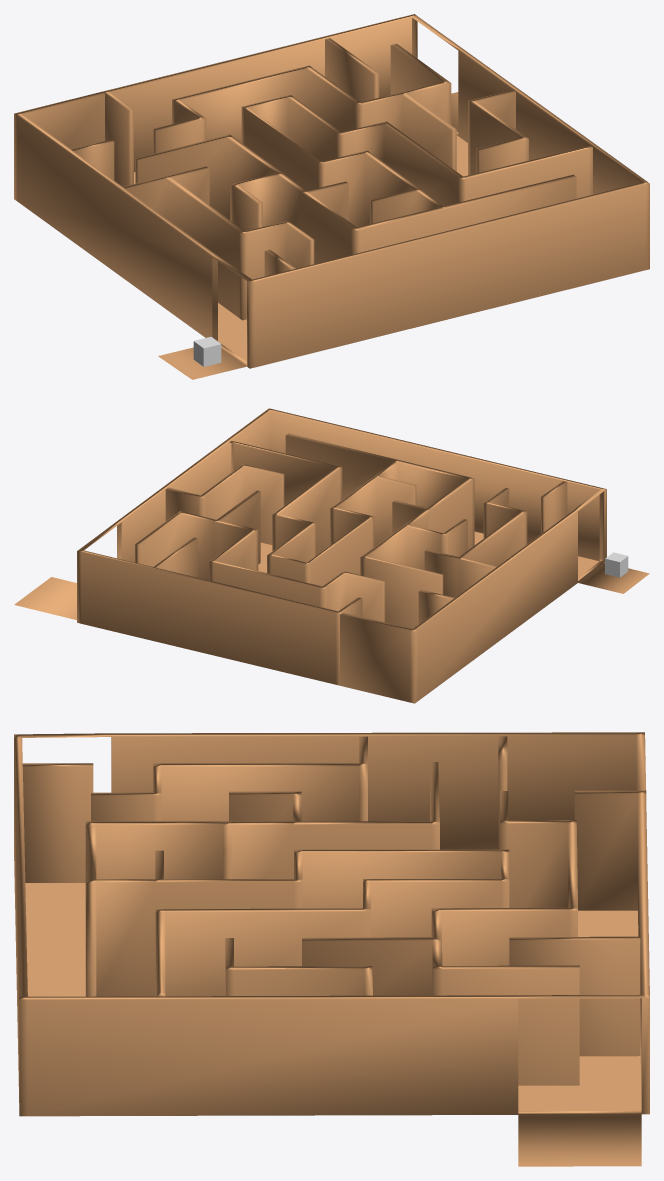
File: Labyrinth.fbx
3 views of the same model, one above another, from view 1: azimuth 30°, elevation 25°; view 2: azimuth 150°, elevation 25°; view 3: azimuth 270°, elevation 25° (orthographic). The views are drawn at different scales.
Parts seen in each view (by area): view 1: Cube.001, Plane.002, Cube; view 2: Cube.001, Plane.002, Cube; view 3: Cube.001, Plane.002.
Boxes of the visible parts, left/top/right/bottom form: Cube.001: left=14, top=14, right=649, bottom=379; Plane.002: left=134, top=135, right=467, bottom=361; Cube: left=193, top=337, right=221, bottom=366; Cube.001: left=14, top=408, right=649, bottom=703; Plane.002: left=258, top=531, right=598, bottom=577; Cube: left=605, top=552, right=628, bottom=577; Cube.001: left=14, top=732, right=649, bottom=1166; Plane.002: left=25, top=883, right=641, bottom=1111.
Size of the model in its own units: 626 by 95.84 by 476.
